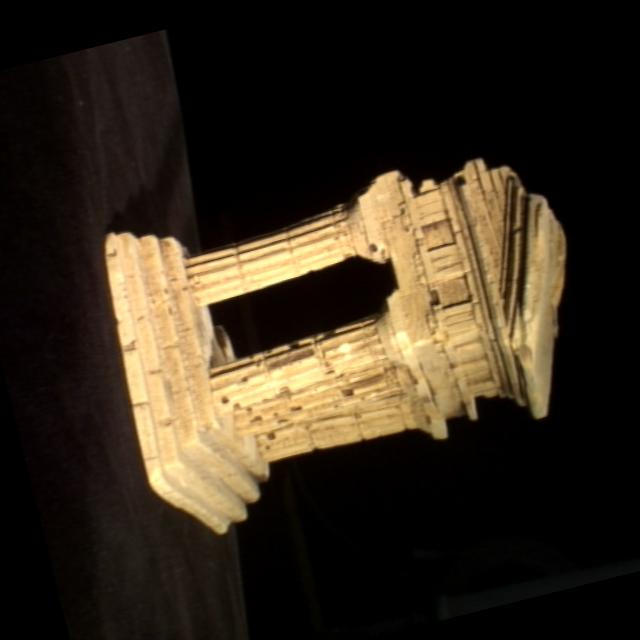Instance-Segmentation: (105, 161, 564, 533)
